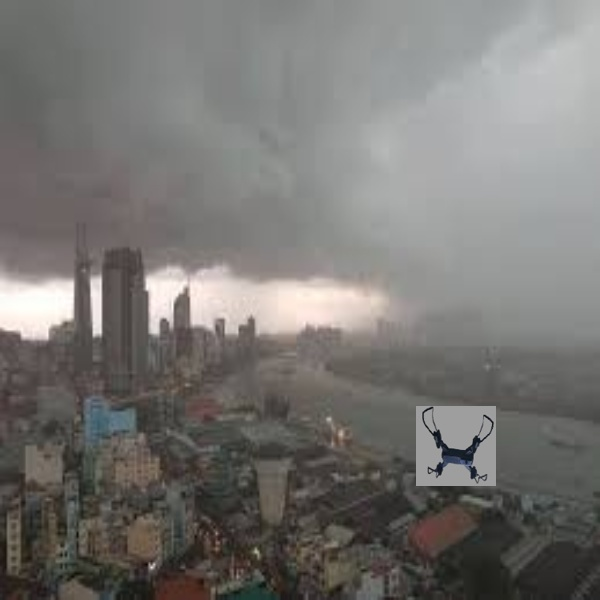drone: (415, 404, 499, 485)
